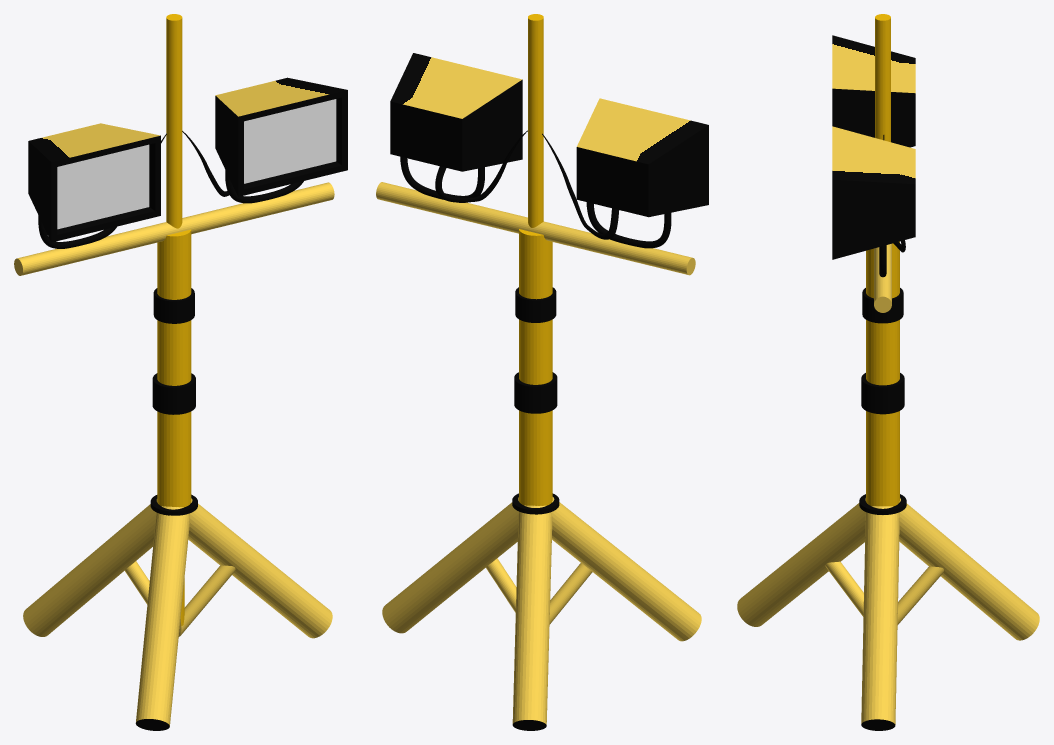
File: woklight.fbx
The picture shows the model from 3 angles, left to right: view 1: azimuth 30°, elevation 25°; view 2: azimuth 150°, elevation 25°; view 3: azimuth 270°, elevation 25°; orthographic projection.
Parts seen in each view (by area): view 1: Cylinder; view 2: Cylinder; view 3: Cylinder.
Boxes of the visible parts, x1=… form: Cylinder: x1=14, y1=14, x2=347, y2=730; Cylinder: x1=376, y1=14, x2=708, y2=730; Cylinder: x1=737, y1=14, x2=1039, y2=730.
Bounding box in the file's own units: 200 × 400 × 169.
